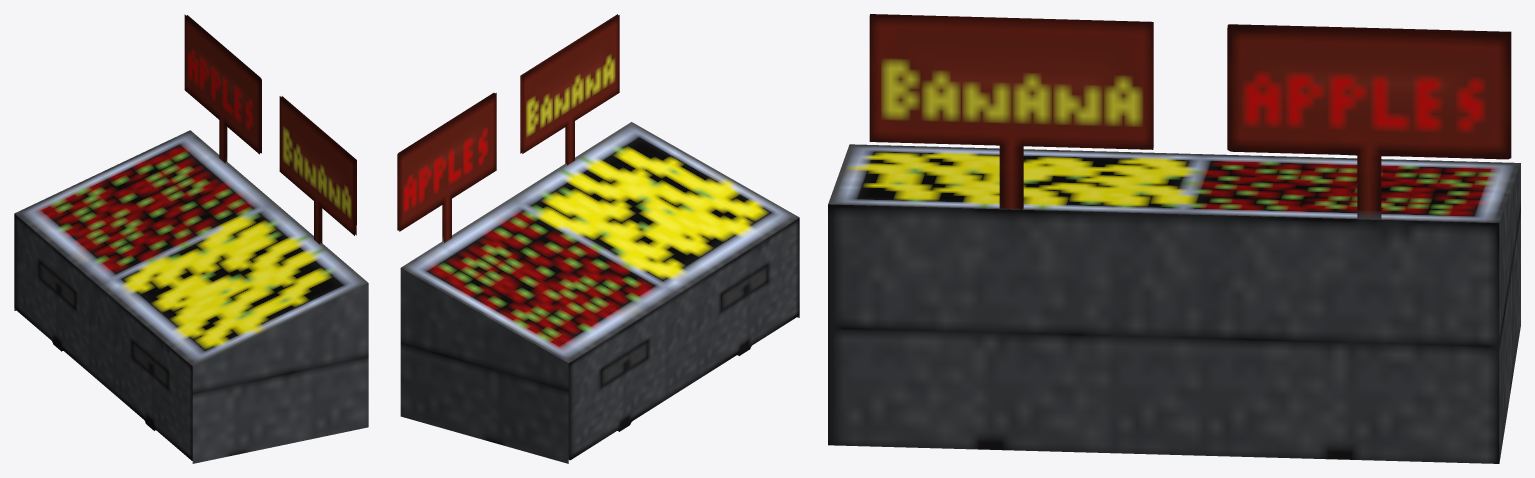
Rendered from BGN_ST SELLING 3.fbx.
3 renders of one model, left to right at view 1: azimuth 30°, elevation 25°; view 2: azimuth 150°, elevation 25°; view 3: azimuth 270°, elevation 25°, orthographic. The views are drawn at different scales.
Visible parts, largest first — view 1: BGN_ST_SELLING_3; view 2: BGN_ST_SELLING_3; view 3: BGN_ST_SELLING_3.
Boxes of the visible parts, x1,y1,x2,y2 form: BGN_ST_SELLING_3: (14,14,368,463); BGN_ST_SELLING_3: (397,14,799,463); BGN_ST_SELLING_3: (828,14,1520,463).
Size of the model in its own units: 213 by 273 by 398.
